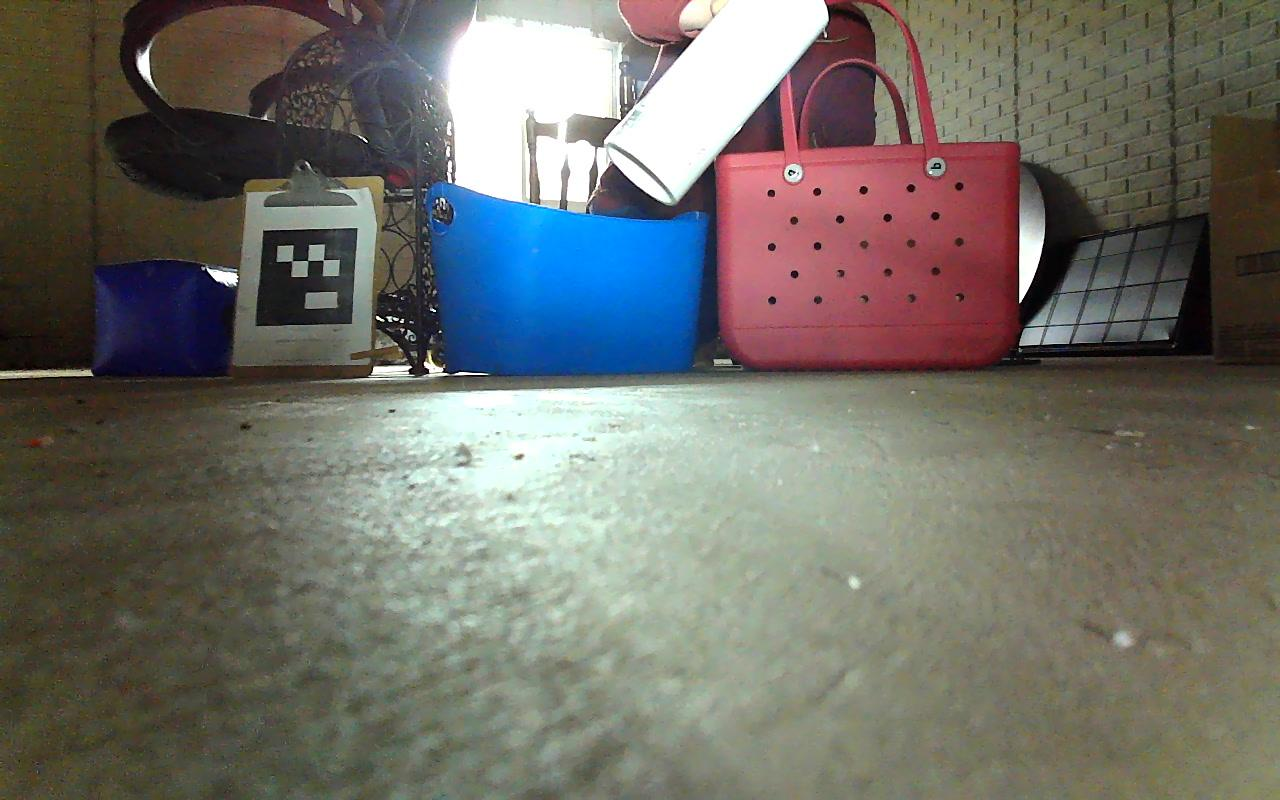coral: (603, 0, 831, 208)
